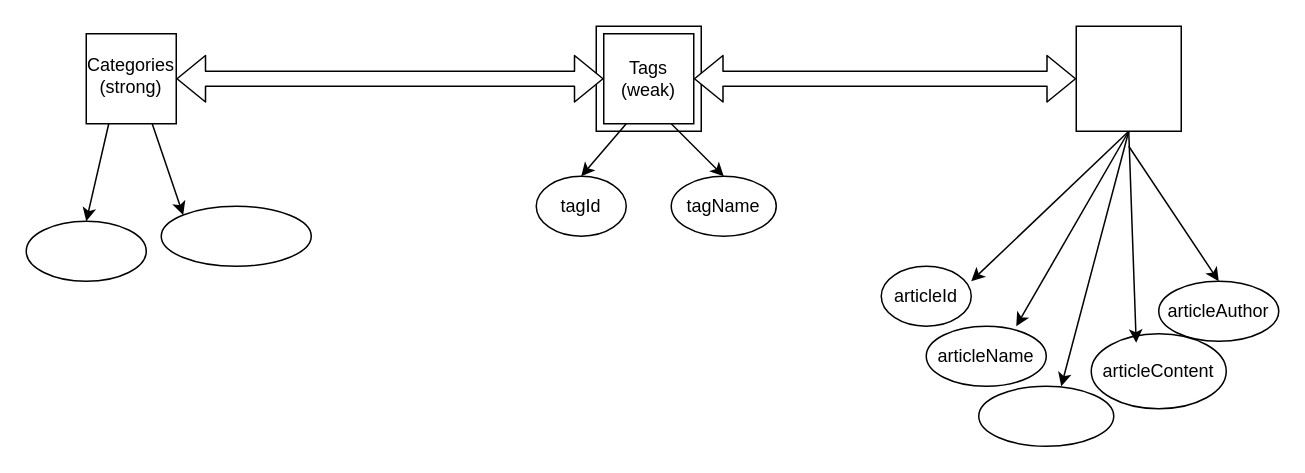
This 1305x473 diagram has some shape labels left out. Here are the shapes that lost their labels. From the top down, the centre of each, then its label:
At pixel 1128 78: "Articles (strong)".
At pixel 85 250: "categoryId".
At pixel 235 235: "categoryName".
At pixel 1045 415: "articleDateTime".
